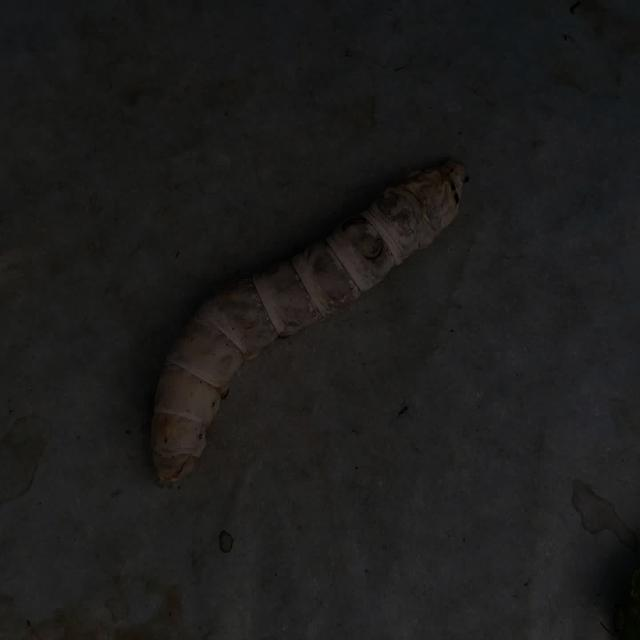Grasserie: (120, 135, 481, 532)
